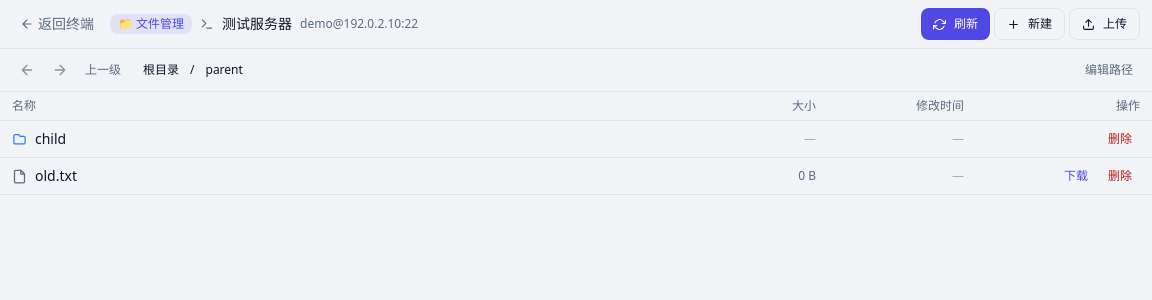
Scenario: 进入失败目录不覆盖上次成功目录，重试入口可恢复且失败期间禁止上传
Click the button "child" at point(51, 139), box 35,129 -> 66,149
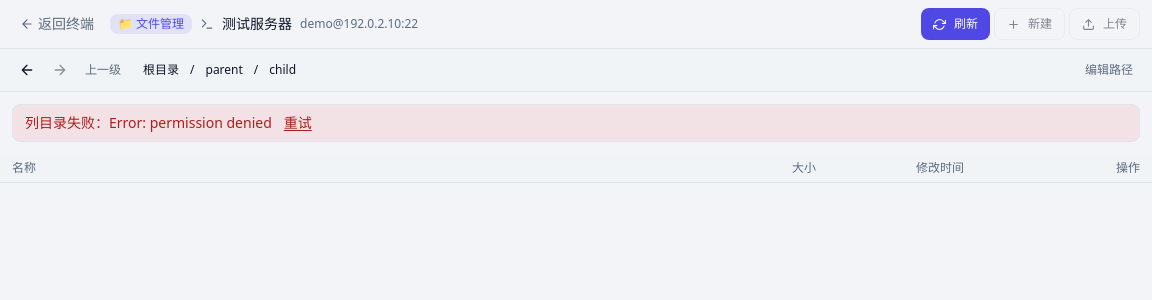
Result: the message "列目录失败：Error: permission denied 重试" is shown at 12,104 -> 1140,142
Result: the button "上传" is disabled at 1069,8 -> 1140,40
Click the button "重试" at point(298, 123), box 284,113 -> 312,133
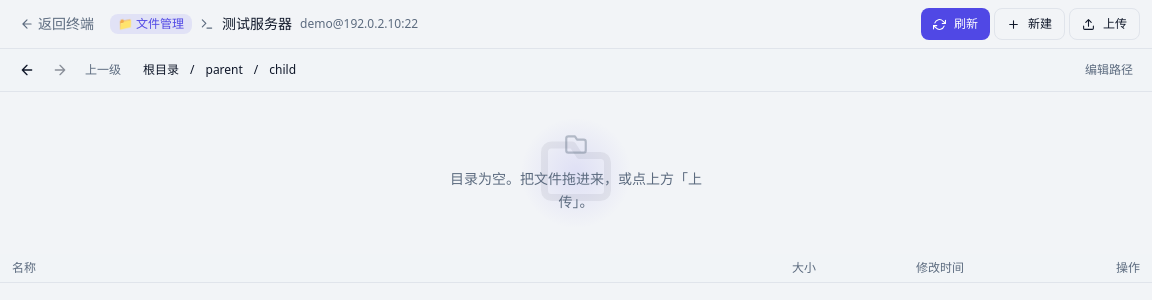
Result: the button "上传" is enabled at 1069,8 -> 1140,40
